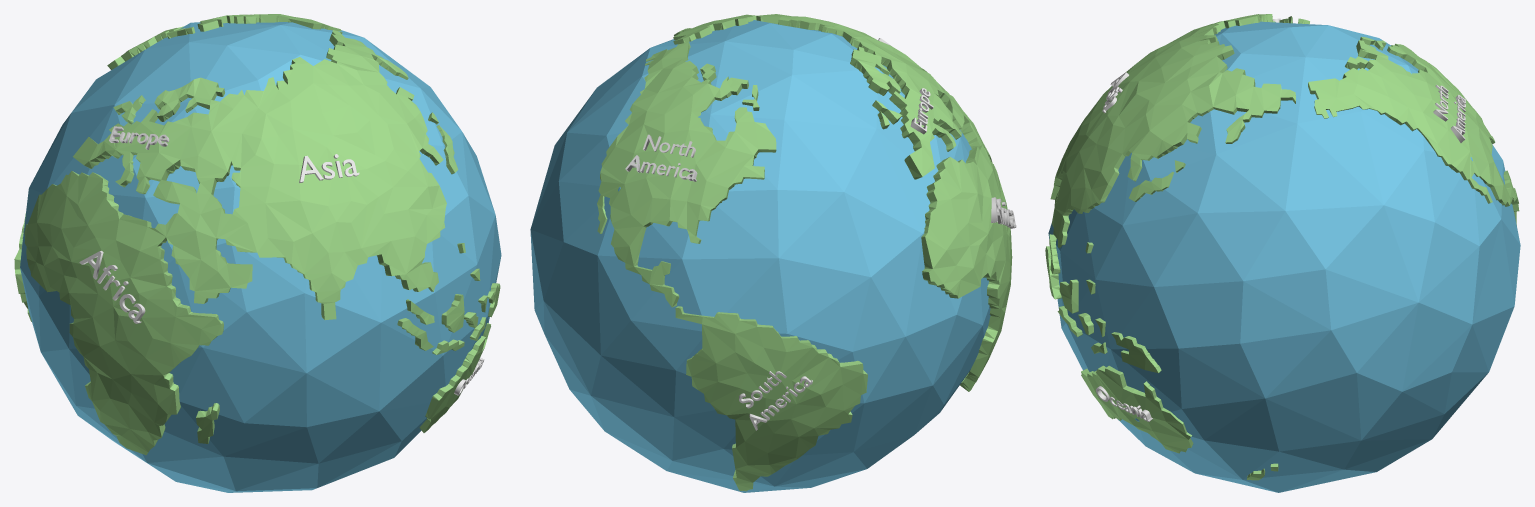
The model's file is low_poly_earthv2-3.glb.
The picture shows the model from 3 angles, left to right: view 1: azimuth 30°, elevation 25°; view 2: azimuth 150°, elevation 25°; view 3: azimuth 270°, elevation 25°; orthographic projection.
Parts seen in each view (by area): view 1: 3DSMeshMatrix, 3DSMeshMatrix.028, Text.001, Text.004, Text; view 2: 3DSMeshMatrix.028, 3DSMeshMatrix, Text.003, Text.002, Text.001; view 3: 3DSMeshMatrix.028, 3DSMeshMatrix, Text.003.
Part boxes in pixels (x1=…): 3DSMeshMatrix: x1=14, y1=14, x2=500, y2=455; 3DSMeshMatrix.028: x1=20, y1=22, x2=501, y2=492; Text.001: x1=79, y1=250, x2=145, y2=323; Text.004: x1=299, y1=154, x2=359, y2=182; Text: x1=109, y1=126, x2=169, y2=149; 3DSMeshMatrix.028: x1=530, y1=20, x2=990, y2=492; 3DSMeshMatrix: x1=597, y1=14, x2=1012, y2=491; Text.003: x1=625, y1=134, x2=697, y2=181; Text.002: x1=739, y1=371, x2=812, y2=430; Text.001: x1=991, y1=197, x2=1016, y2=228; 3DSMeshMatrix.028: x1=1048, y1=21, x2=1520, y2=492; 3DSMeshMatrix: x1=1045, y1=14, x2=1519, y2=480; Text.003: x1=1433, y1=85, x2=1465, y2=142.
Size of the model in its own units: 52 by 51.42 by 51.93.
